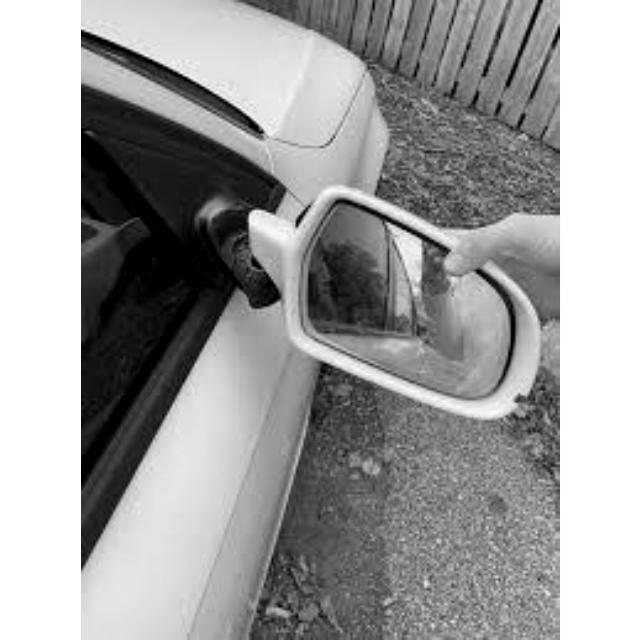Sidemirror-Damage: (177, 168, 552, 444)
